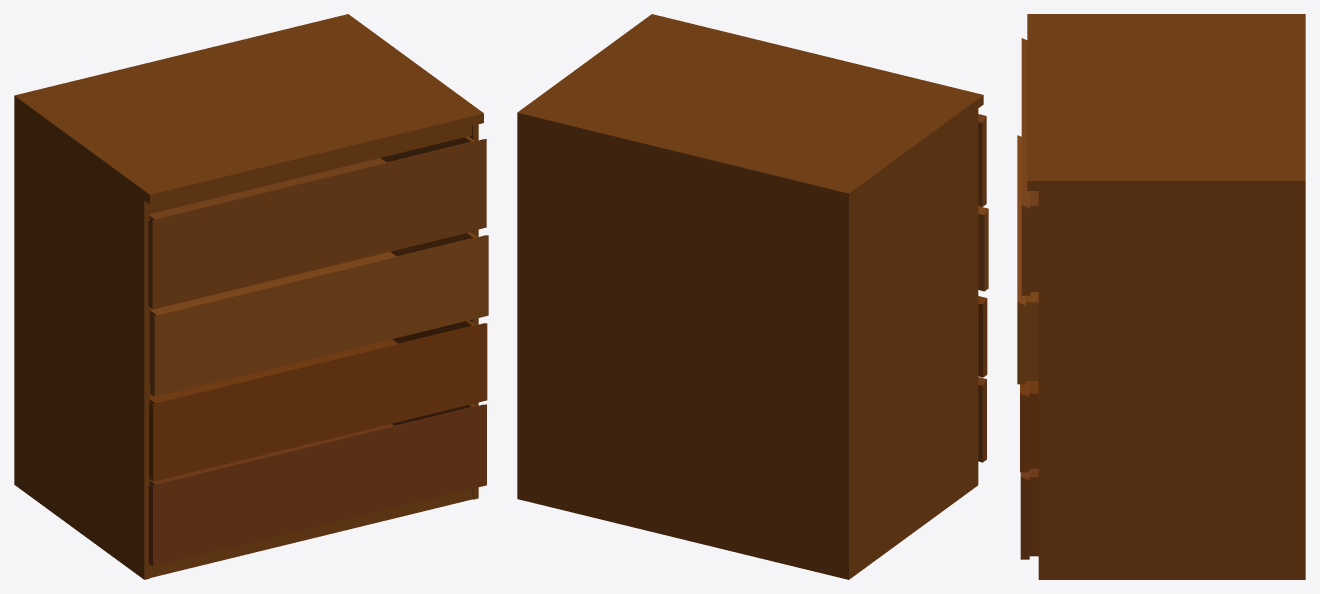
File: Dresser.fbx
3 views of the same model, side by side, from view 1: azimuth 30°, elevation 25°; view 2: azimuth 150°, elevation 25°; view 3: azimuth 270°, elevation 25° (orthographic). The views are drawn at different scales.
Visible parts, largest first — view 1: Låda.003; view 2: Låda.003; view 3: Låda.003.
Part boxes in pixels (x1,y1,x2,y2): Låda.003: (14, 14, 488, 579); Låda.003: (517, 14, 988, 579); Låda.003: (1017, 14, 1305, 579).
Size of the model in its own units: 164 by 182 by 120.
